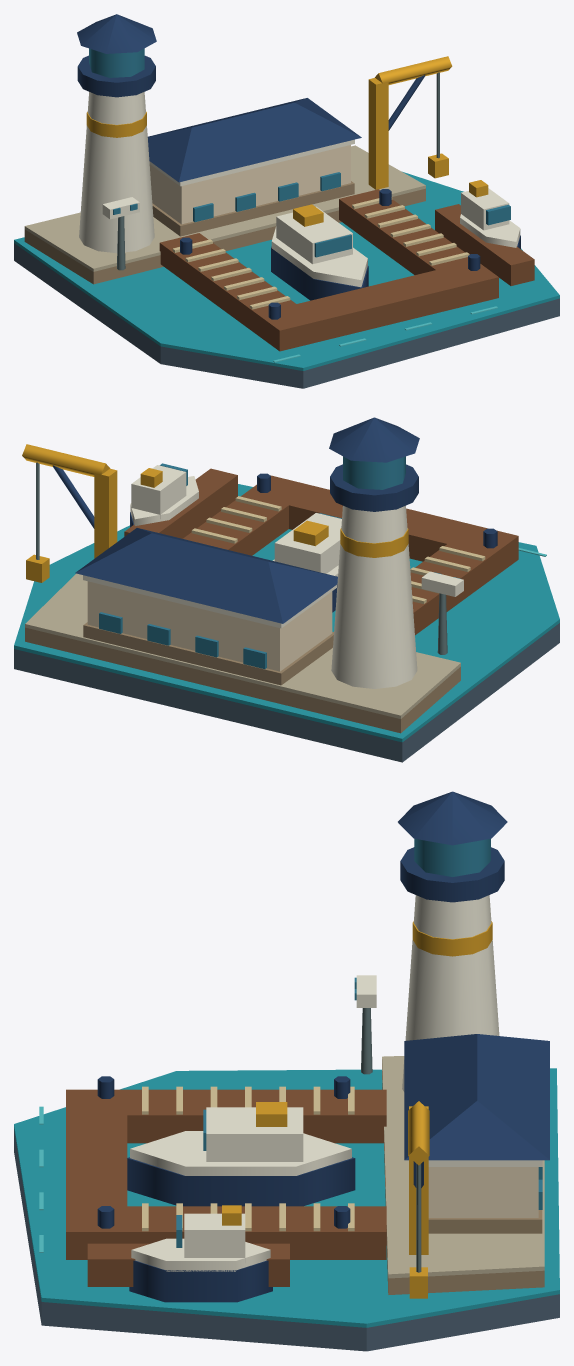
File: port-lv2.glb
3 renders of one model, top to bottom at view 1: azimuth 30°, elevation 25°; view 2: azimuth 150°, elevation 25°; view 3: azimuth 270°, elevation 25°, orthographic. The views are drawn at different scales.
Parts seen in each view (by area): view 1: foundation_water, pier_wood, foundation_slate, warehouse_roof_naval, lighthouse_white, warehouse_cream, vessel_white, quay_paving, cranes_ochre, outer_pier_wood, pier_planks_sand, quay_stoneDark (+12 smaller); view 2: foundation_water, warehouse_roof_naval, lighthouse_white, pier_wood, foundation_slate, warehouse_cream, quay_paving, quay_stoneDark, vessel_white, warehouse_stoneDark, cranes_ochre, lighthouse_roof_naval (+13 smaller); view 3: foundation_water, pier_wood, warehouse_roof_naval, vessel_white, foundation_slate, vessel_naval, lighthouse_white, quay_paving, warehouse_cream, lighthouse_roof_naval, lantern_balcony_naval, outer_pier_wood (+11 smaller).
Part boxes in pixels (<box>): foundation_water: <box>14,171,559,370</box>; pier_wood: <box>159,189,498,351</box>; foundation_slate: <box>14,243,559,388</box>; warehouse_roof_naval: <box>147,98,361,182</box>; lighthouse_white: <box>79,92,154,253</box>; warehouse_cream: <box>149,145,350,224</box>; vessel_white: <box>271,188,520,287</box>; quay_paving: <box>24,145,425,271</box>; cranes_ochre: <box>368,56,452,189</box>; outer_pier_wood: <box>435,204,534,285</box>; pier_planks_sand: <box>172,197,469,309</box>; quay_stoneDark: <box>24,188,425,284</box>; foundation_water: <box>14,484,559,742</box>; warehouse_roof_naval: <box>75,528,337,623</box>; lighthouse_white: <box>331,505,417,688</box>; pier_wood: <box>183,475,518,635</box>; foundation_slate: <box>14,623,559,762</box>; warehouse_cream: <box>87,581,332,671</box>; quay_paving: <box>25,573,460,718</box>; quay_stoneDark: <box>25,627,460,733</box>; vessel_white: <box>130,465,341,576</box>; warehouse_stoneDark: <box>83,622,333,685</box>; cranes_ochre: <box>22,444,117,558</box>; lighthouse_roof_naval: <box>329,417,419,462</box>; foundation_water: <box>14,1068,559,1327</box>; pier_wood: <box>66,1089,386,1259</box>; warehouse_roof_naval: <box>404,1034,549,1160</box>; vessel_white: <box>130,1107,351,1271</box>; foundation_slate: <box>14,1129,559,1351</box>; vessel_naval: <box>127,1157,355,1302</box>; lighthouse_white: <box>402,895,499,1091</box>; quay_paving: <box>382,1056,544,1278</box>; warehouse_cream: <box>428,1167,538,1217</box>; lighthouse_roof_naval: <box>398,791,507,845</box>; lantern_balcony_naval: <box>400,847,504,902</box>; outer_pier_wood: <box>87,1243,289,1286</box>.
Size of the model in its own units: 1 by 0.632 by 0.9036.
